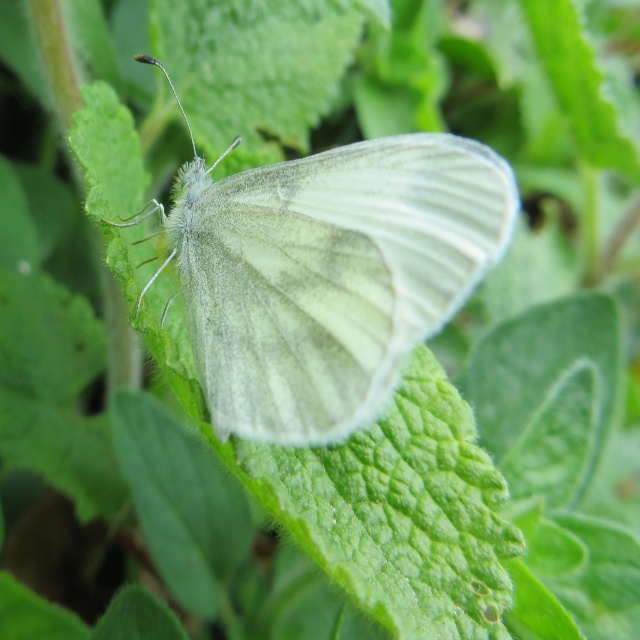Butterfly: (101, 53, 522, 442)
